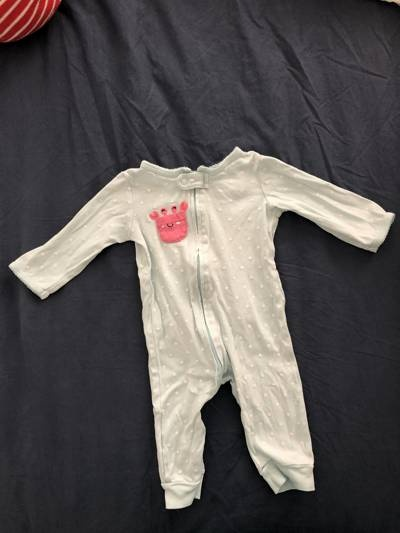Body: (10, 129, 394, 516)
